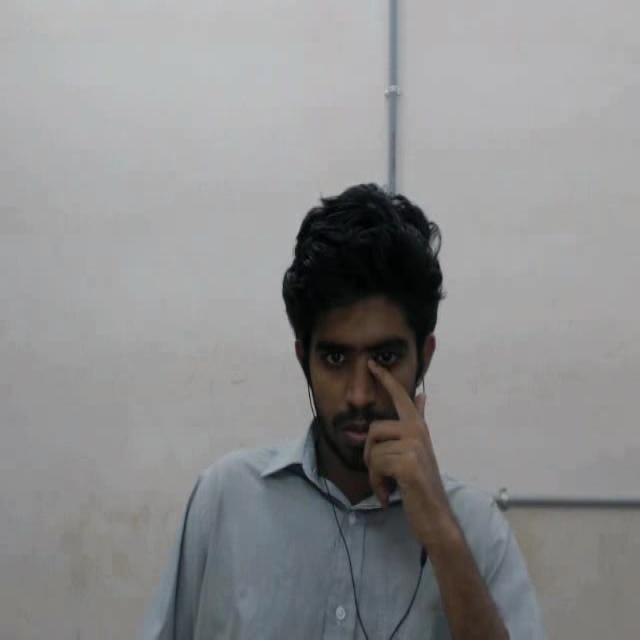Bored: (259, 181, 483, 528)
